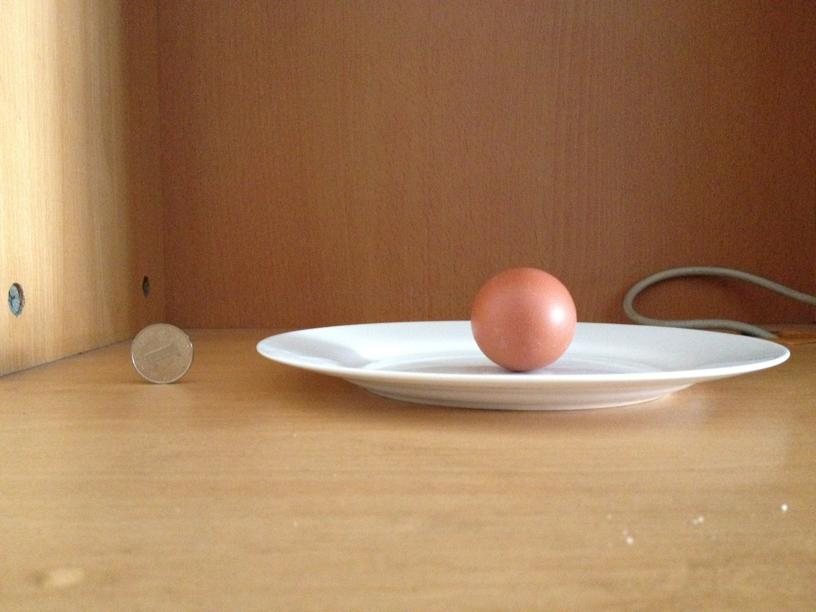coin: (127, 320, 195, 384)
egg: (470, 266, 577, 373)
